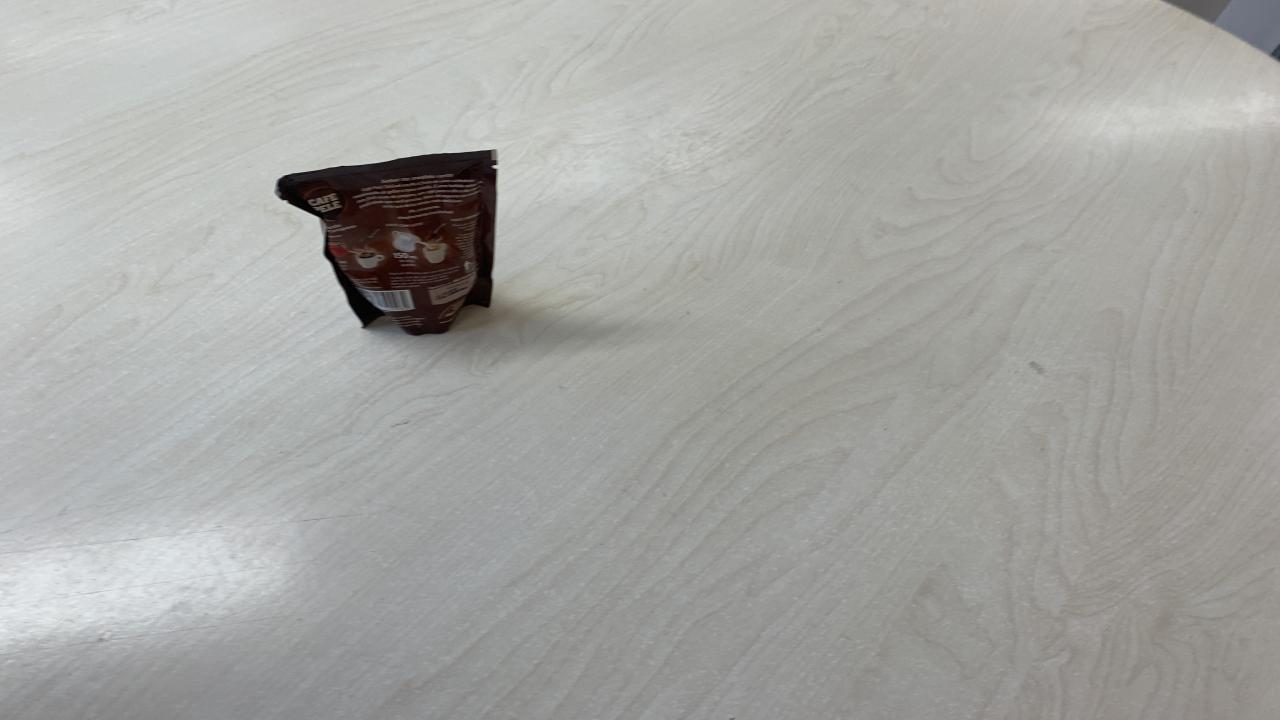Coffee-Pantry_Items: (275, 150, 498, 336)
